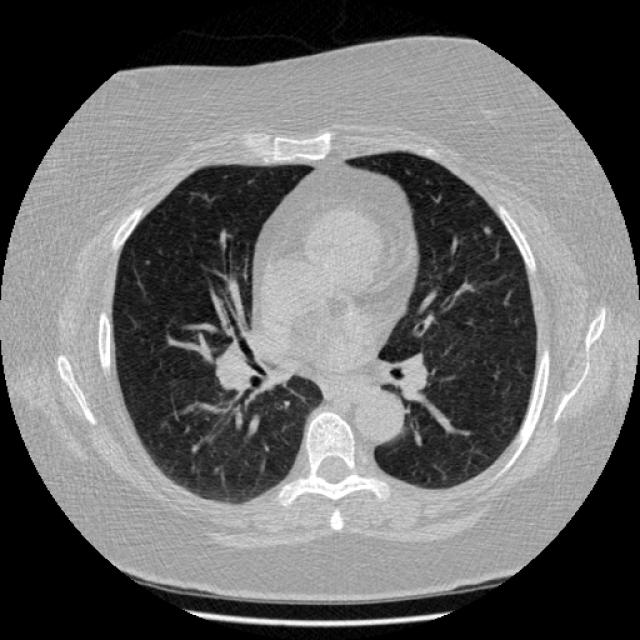nodule: (476, 220, 496, 240)
